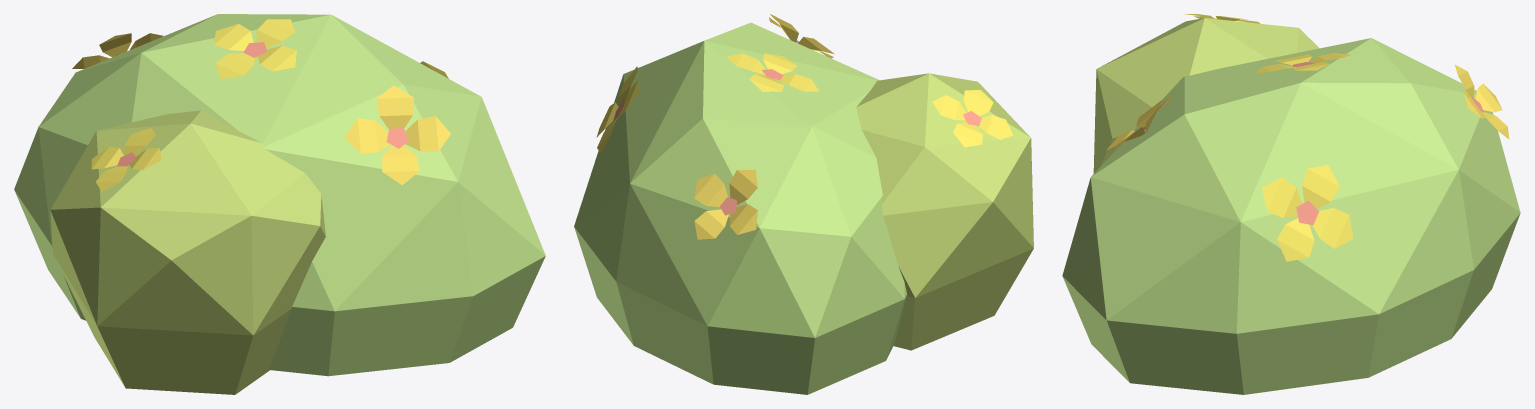
The model's file is FlowerBush_e_m_02.fbx.
3 views of the same model, side by side, from view 1: azimuth 30°, elevation 25°; view 2: azimuth 150°, elevation 25°; view 3: azimuth 270°, elevation 25° (orthographic). The views are drawn at different scales.
Visible parts, largest first — view 1: FlowerBush_e_m_02_LOD0; view 2: FlowerBush_e_m_02_LOD0; view 3: FlowerBush_e_m_02_LOD0.
Part boxes in pixels (x1,y1,x2,y2): FlowerBush_e_m_02_LOD0: (14, 14, 545, 394); FlowerBush_e_m_02_LOD0: (574, 14, 1033, 394); FlowerBush_e_m_02_LOD0: (1062, 14, 1520, 394).
Size of what is drawn, in the model's own units: 168 by 99.9 by 160.
